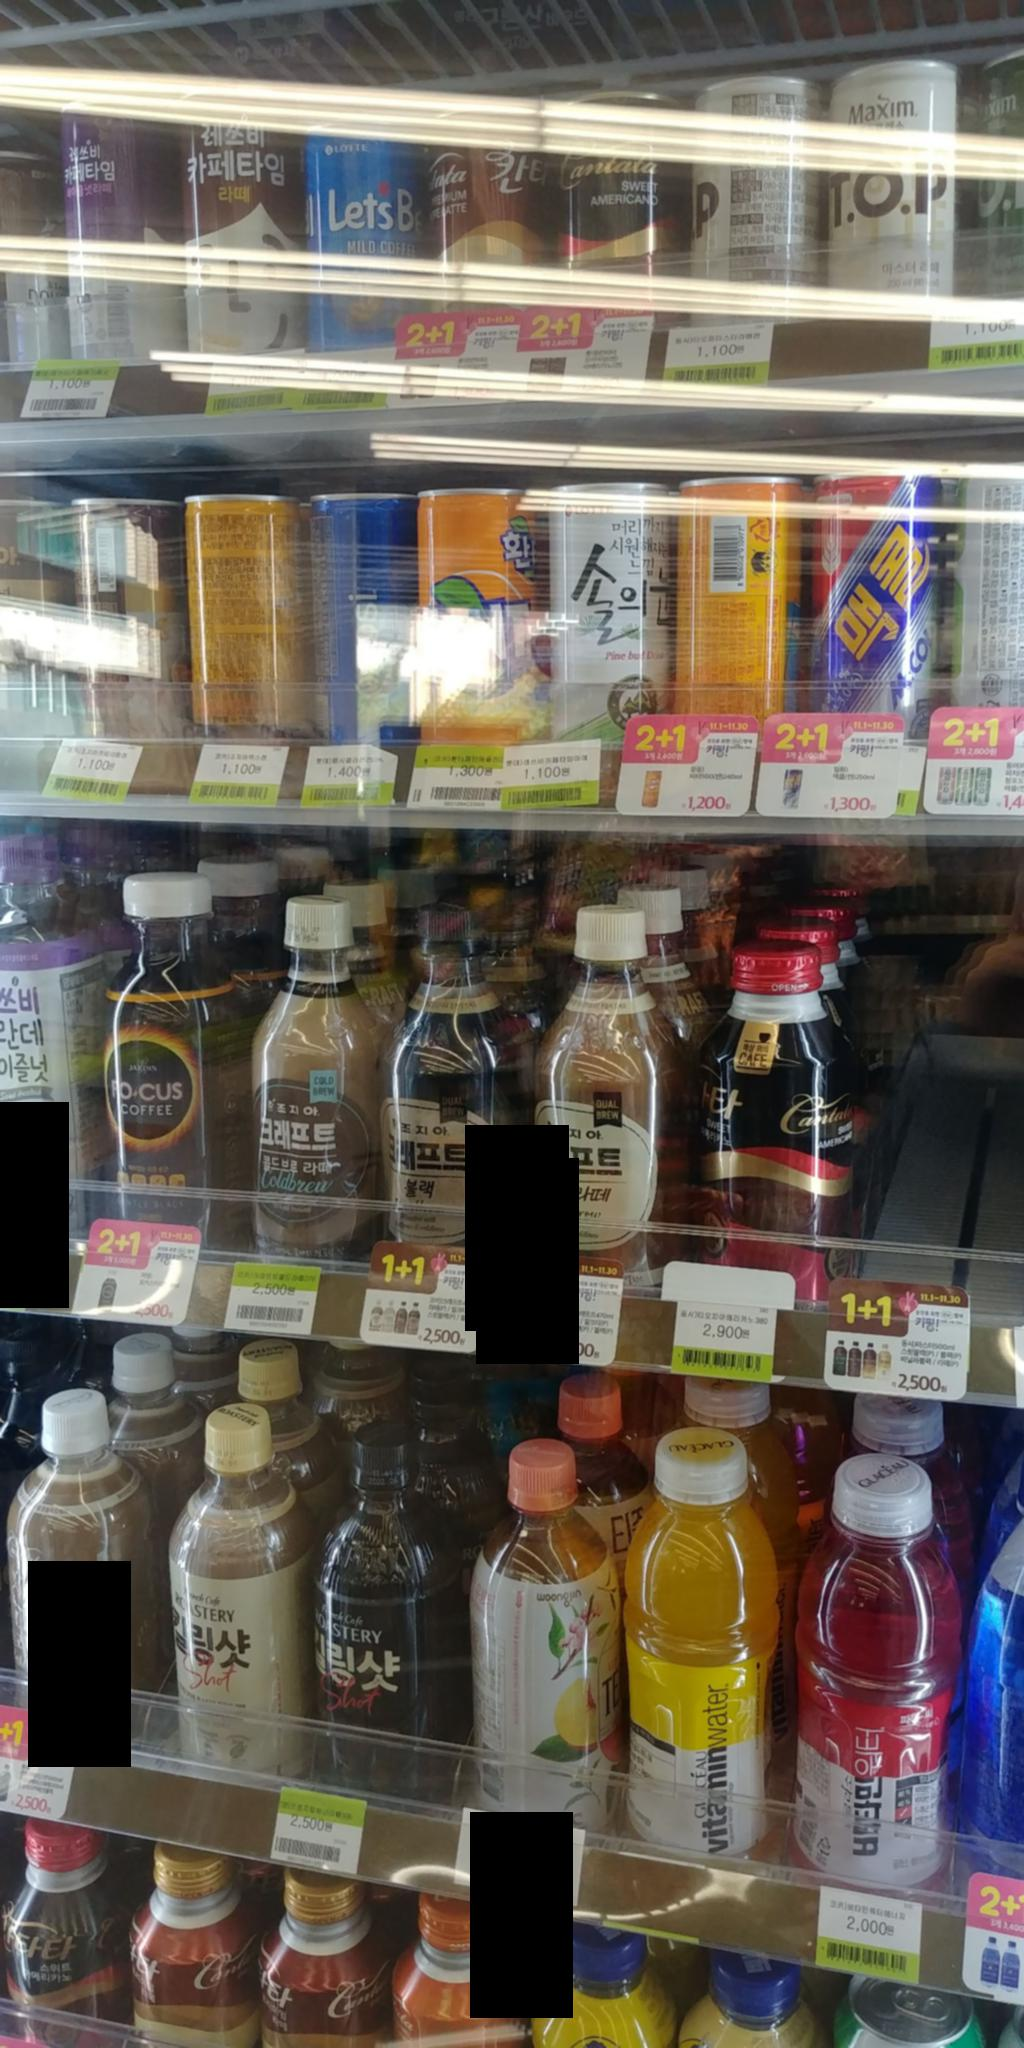georgiacraft_black: (375, 906, 526, 1262)
letsbe: (294, 110, 436, 357)
